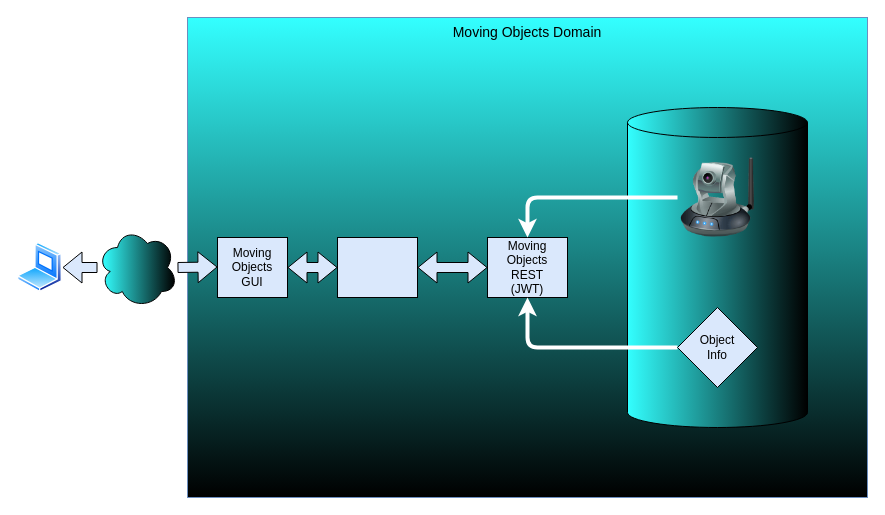
The diagram is 885 pixels wide and 515 high, and some of its shapes have lost their labels. The shapes that lost their labels are listed below. From the top down, each one's centre as x and y in pixels, then its label:
At point 39,267: "User".
At point 377,267: "Moving Objects REST (Okta)".
